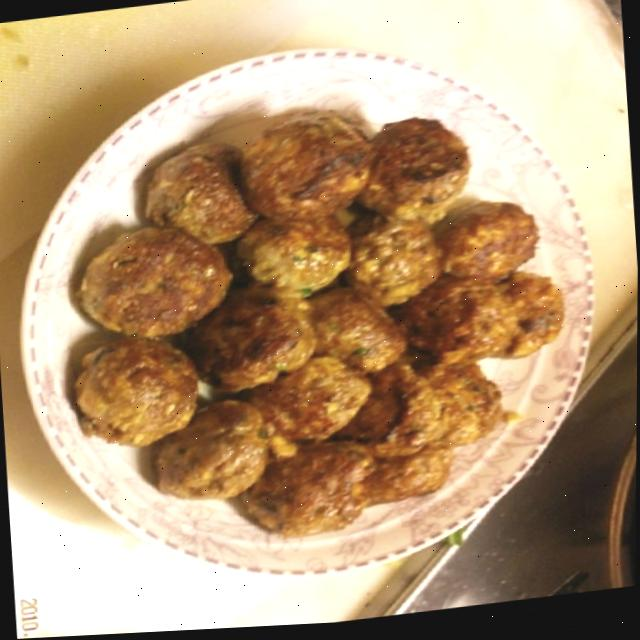猪肉菜式: (1, 1, 627, 613)
